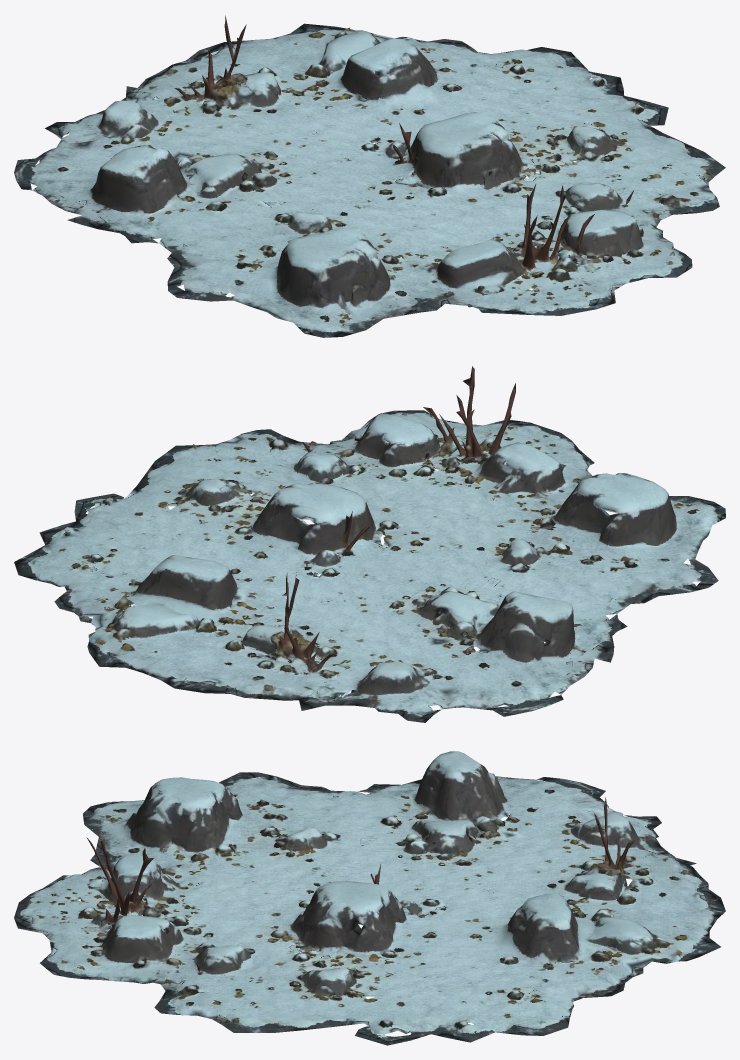
Rendered from snow-ground-3.glb.
3 views of the same model, one above another, from view 1: azimuth 30°, elevation 25°; view 2: azimuth 150°, elevation 25°; view 3: azimuth 270°, elevation 25° (orthographic). The views are drawn at different scales.
Parts seen in each view (by area): view 1: geometry_0; view 2: geometry_0; view 3: geometry_0.
Part boxes in pixels (bbox=[...]): geometry_0: bbox=[14, 15, 725, 337]; geometry_0: bbox=[14, 366, 725, 722]; geometry_0: bbox=[14, 751, 725, 1045].
Size of the model in its own units: 0.8698 by 0.1482 by 0.9657.
Materials: 1 (1 with a texture image).
